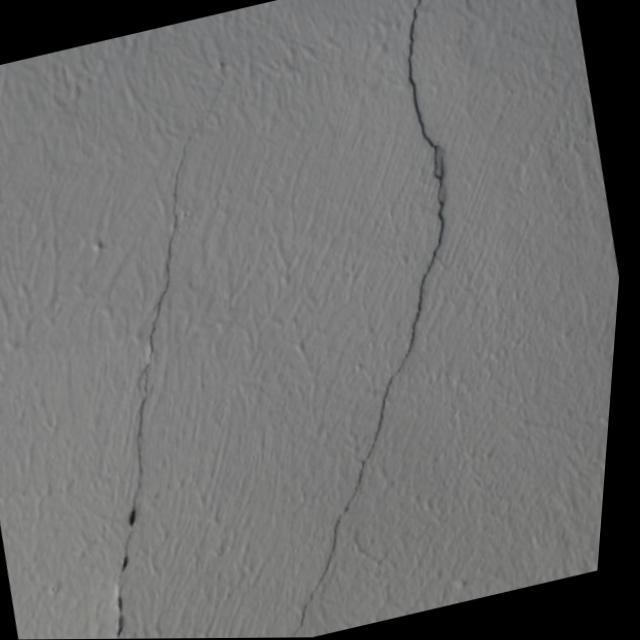Crack: (156, 0, 573, 639), (2, 116, 318, 640)
